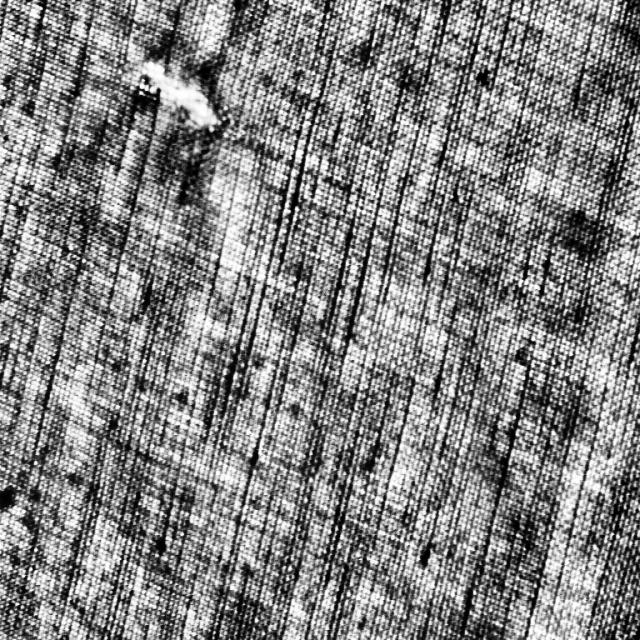Hole: (138, 52, 232, 148)
